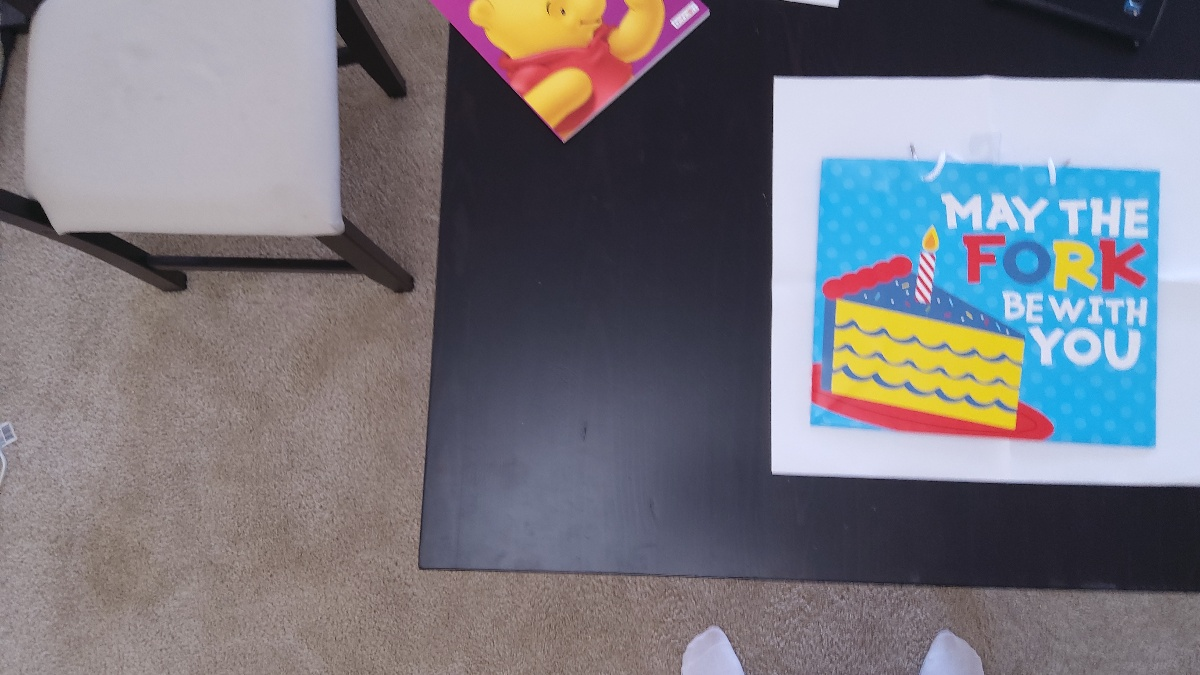paper_bag: (822, 159, 1153, 443)
